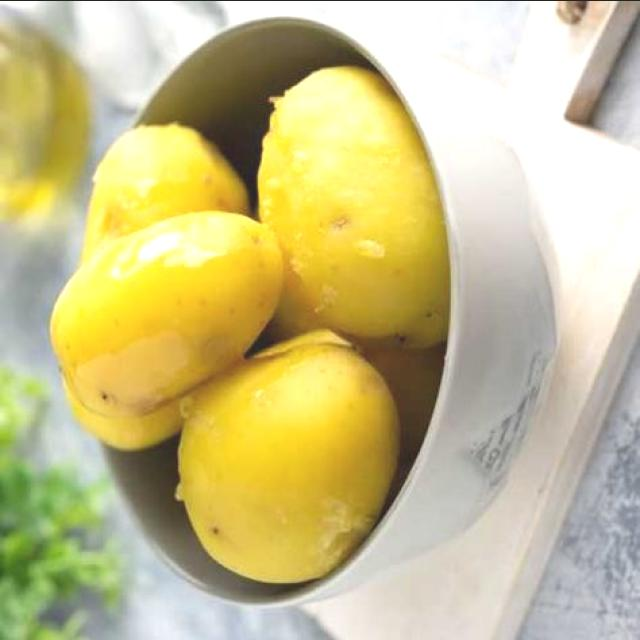kentang rebus: (257, 66, 454, 474), (177, 329, 401, 583), (51, 208, 288, 415)
